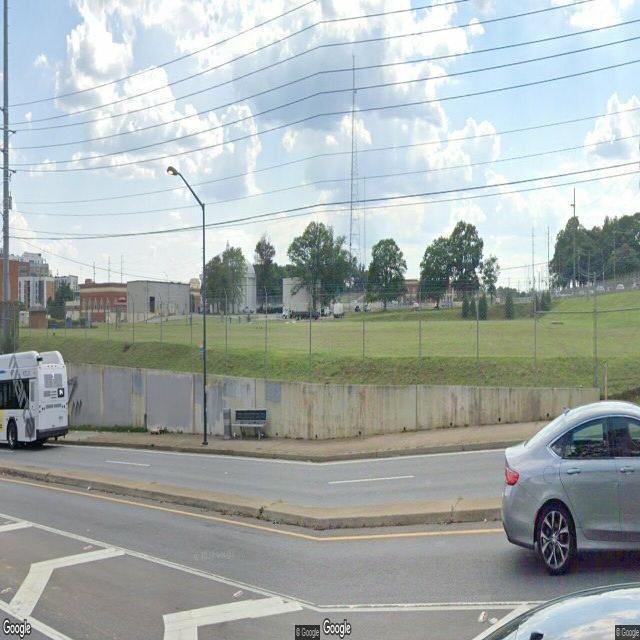seating: (232, 408, 268, 442)
trash_can: (222, 407, 232, 440)
